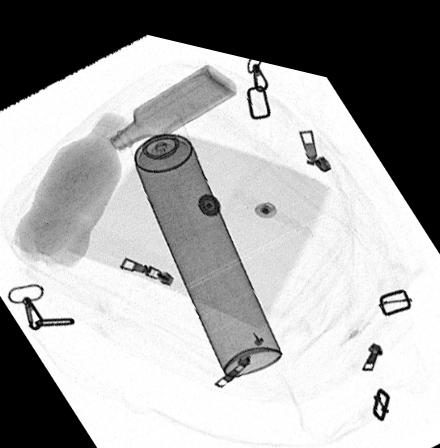Sprayer: (123, 104, 283, 366)
